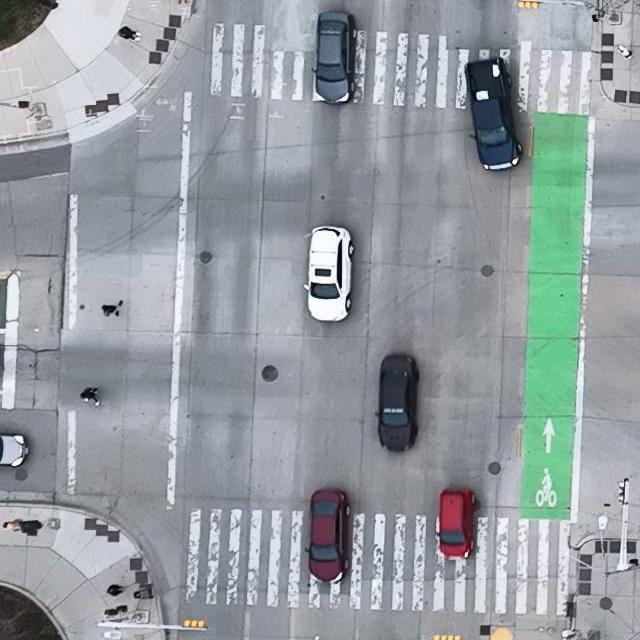car: (464, 57, 522, 171), (304, 226, 357, 322), (310, 10, 357, 105), (304, 489, 351, 583), (375, 354, 419, 452), (436, 488, 479, 559), (0, 435, 29, 467)
